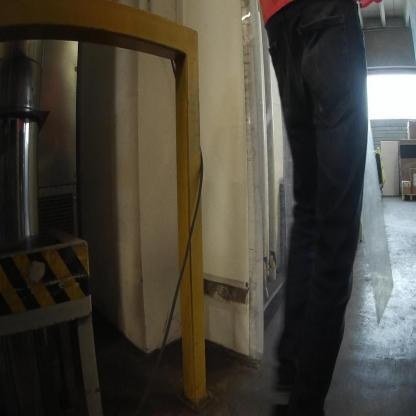pallet: (399, 189, 416, 207)
